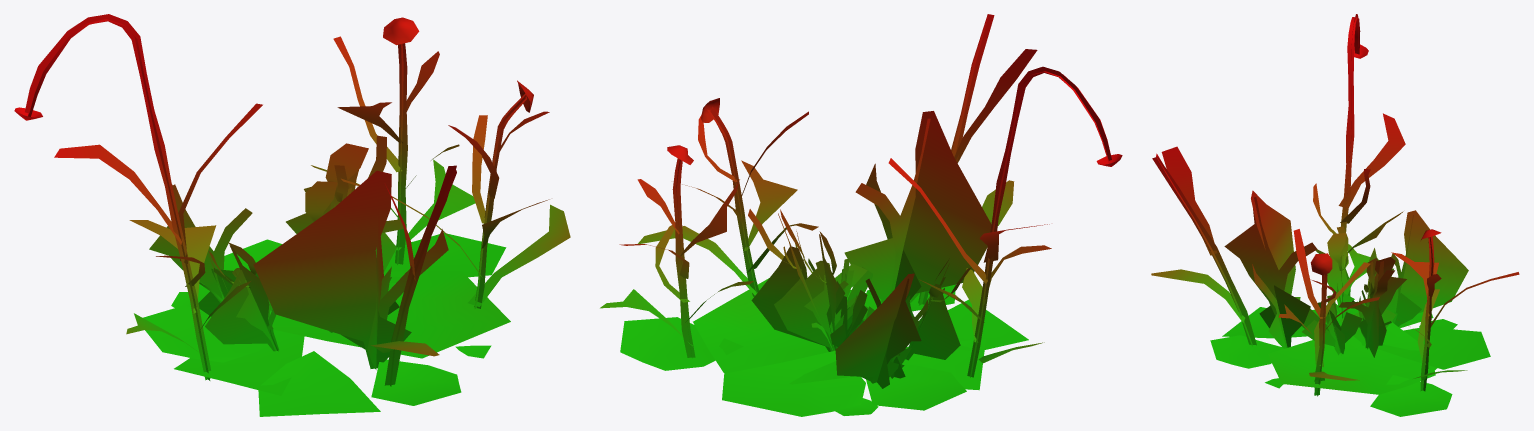
Rendered from Var11_LOD0.fbx.
3 views of the same model, side by side, from view 1: azimuth 30°, elevation 25°; view 2: azimuth 150°, elevation 25°; view 3: azimuth 270°, elevation 25° (orthographic). The views are drawn at different scales.
Parts seen in each view (by area): view 1: _158d_Var11_LOD0; view 2: _158d_Var11_LOD0; view 3: _158d_Var11_LOD0.
Part boxes in pixels (box(x1,y1,x2,y2)): _158d_Var11_LOD0: box(14, 14, 570, 416); _158d_Var11_LOD0: box(600, 14, 1122, 416); _158d_Var11_LOD0: box(1151, 14, 1519, 416).
Bounding box in the file's own units: 25.07 × 17.08 × 21.48.
